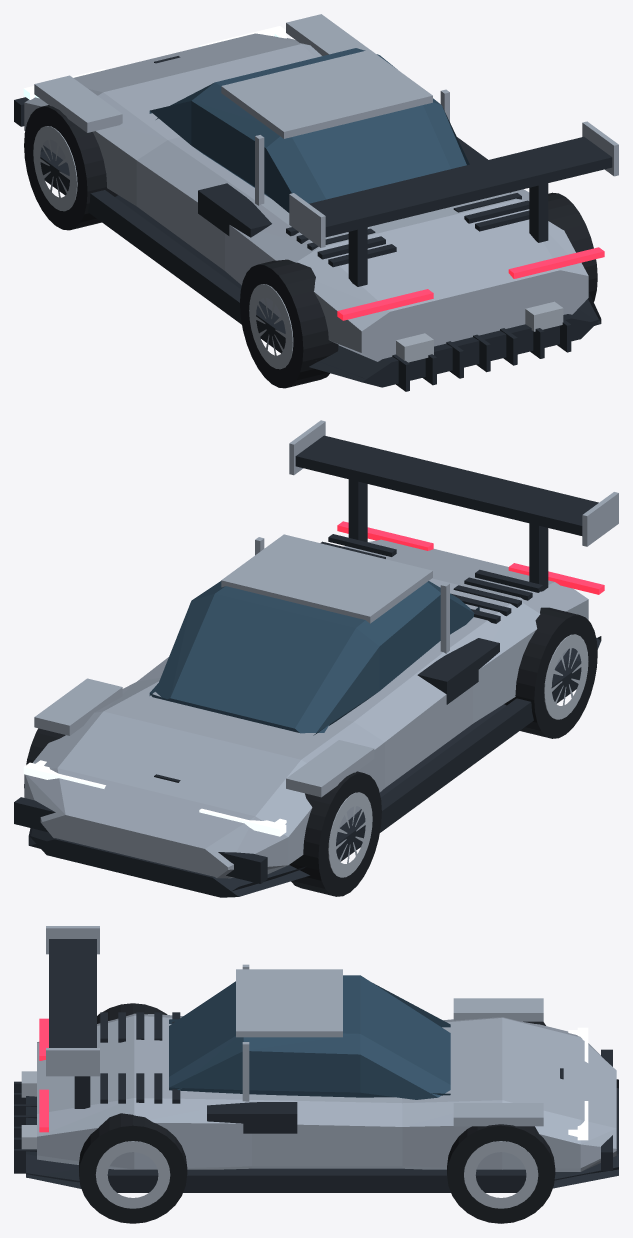
Rendered from gt_silver.glb.
3 renders of one model, top to bottom at view 1: azimuth 30°, elevation 25°; view 2: azimuth 150°, elevation 25°; view 3: azimuth 270°, elevation 25°, orthographic. The views are drawn at different scales.
Parts seen in each view (by area): view 1: Coachwork, Wheel_RL, Wheel_FL, Wheel_RR; view 2: Coachwork, Wheel_RL, Wheel_FL; view 3: Coachwork, Wheel_RR, Wheel_FR, Wheel_RL.
Part boxes in pixels (bbox=[...]): Coachwork: bbox=[14, 14, 618, 391]; Wheel_RL: bbox=[240, 259, 338, 388]; Wheel_FL: bbox=[24, 105, 117, 230]; Wheel_RR: bbox=[548, 192, 597, 301]; Coachwork: bbox=[14, 420, 618, 897]; Wheel_RL: bbox=[504, 607, 597, 738]; Wheel_FL: bbox=[289, 771, 381, 896]; Coachwork: bbox=[14, 926, 618, 1192]; Wheel_RR: bbox=[79, 1113, 187, 1223]; Wheel_FR: bbox=[447, 1124, 555, 1223]; Wheel_RL: bbox=[97, 1003, 167, 1023].
Size of the model in its own units: 2.44 by 1.6 by 5.03.
